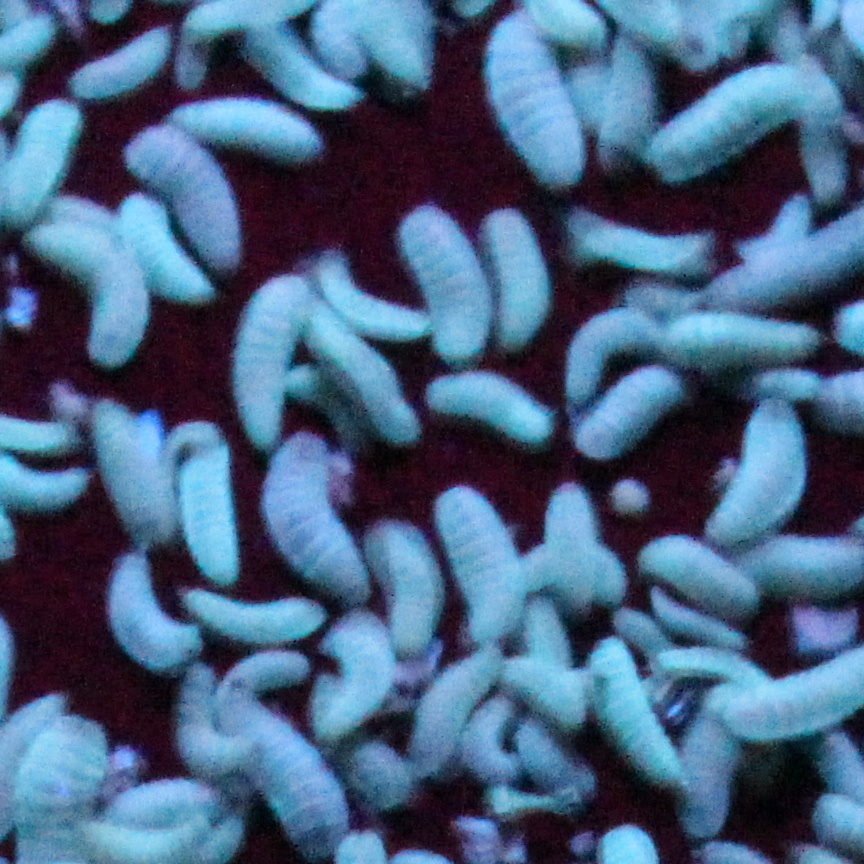larve: (476, 7, 592, 194), (654, 63, 836, 179), (227, 685, 349, 850), (258, 434, 372, 596), (125, 128, 252, 268), (300, 305, 423, 445), (27, 225, 150, 361), (701, 403, 818, 545), (85, 396, 178, 550), (394, 205, 485, 361), (163, 412, 245, 581), (427, 485, 518, 630), (236, 14, 367, 114), (112, 192, 227, 303), (596, 630, 679, 783), (105, 545, 192, 683), (158, 98, 323, 168), (630, 527, 759, 616), (314, 252, 436, 345), (234, 272, 296, 448), (3, 88, 81, 223), (483, 205, 556, 348), (563, 203, 705, 276), (425, 370, 556, 448), (576, 367, 685, 458), (414, 648, 496, 767), (676, 694, 747, 830), (167, 665, 250, 774), (181, 579, 321, 643), (370, 516, 440, 643), (594, 18, 658, 156), (569, 299, 665, 390), (672, 312, 821, 367), (72, 25, 181, 98), (516, 541, 627, 605), (496, 656, 598, 725), (327, 614, 389, 727), (518, 721, 601, 805), (547, 485, 600, 616), (101, 776, 223, 823), (656, 648, 770, 687), (747, 194, 809, 259)
